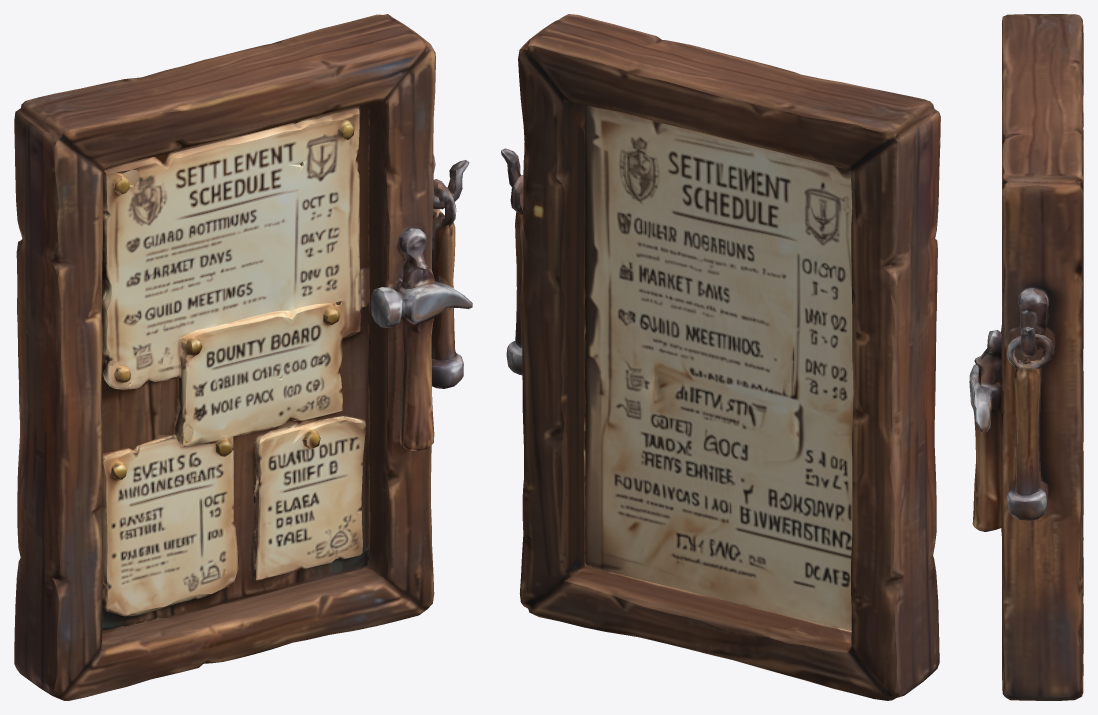
File: gen-m4-work-board.glb
3 views of the same model, side by side, from view 1: azimuth 30°, elevation 25°; view 2: azimuth 150°, elevation 25°; view 3: azimuth 270°, elevation 25° (orthographic). The views are drawn at different scales.
Visible parts, largest first — view 1: geometry_0; view 2: geometry_0; view 3: geometry_0.
Boxes of the visible parts, bbox=[...] form: geometry_0: bbox=[14, 14, 472, 700]; geometry_0: bbox=[501, 14, 940, 700]; geometry_0: bbox=[969, 14, 1083, 700].
Size of the model in its own units: 0.6274 by 0.8 by 0.1574.
Materials: 1 (1 with a texture image).
